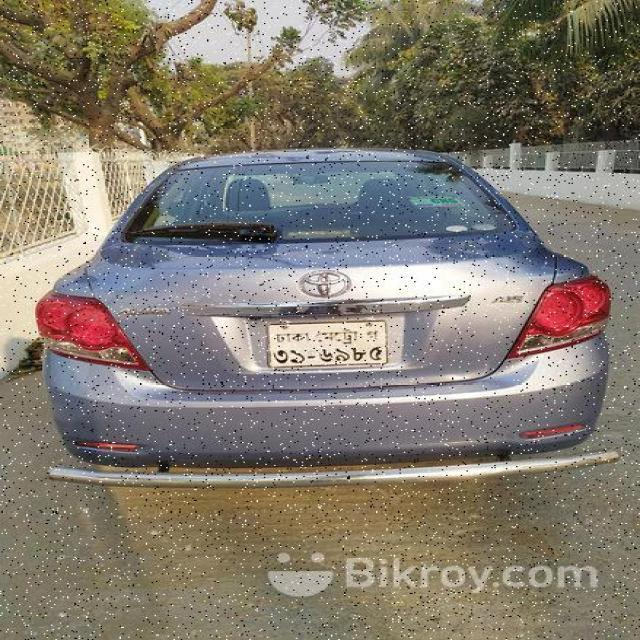numberplate: (265, 318, 388, 369)
